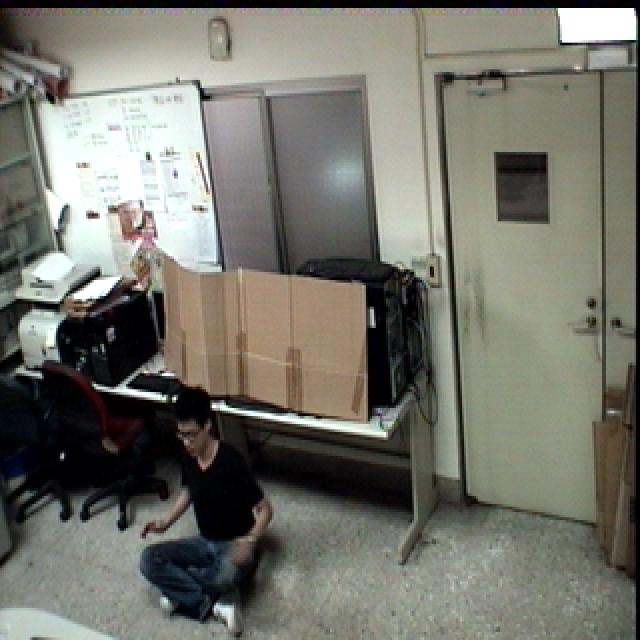sit: (130, 381, 284, 640)
